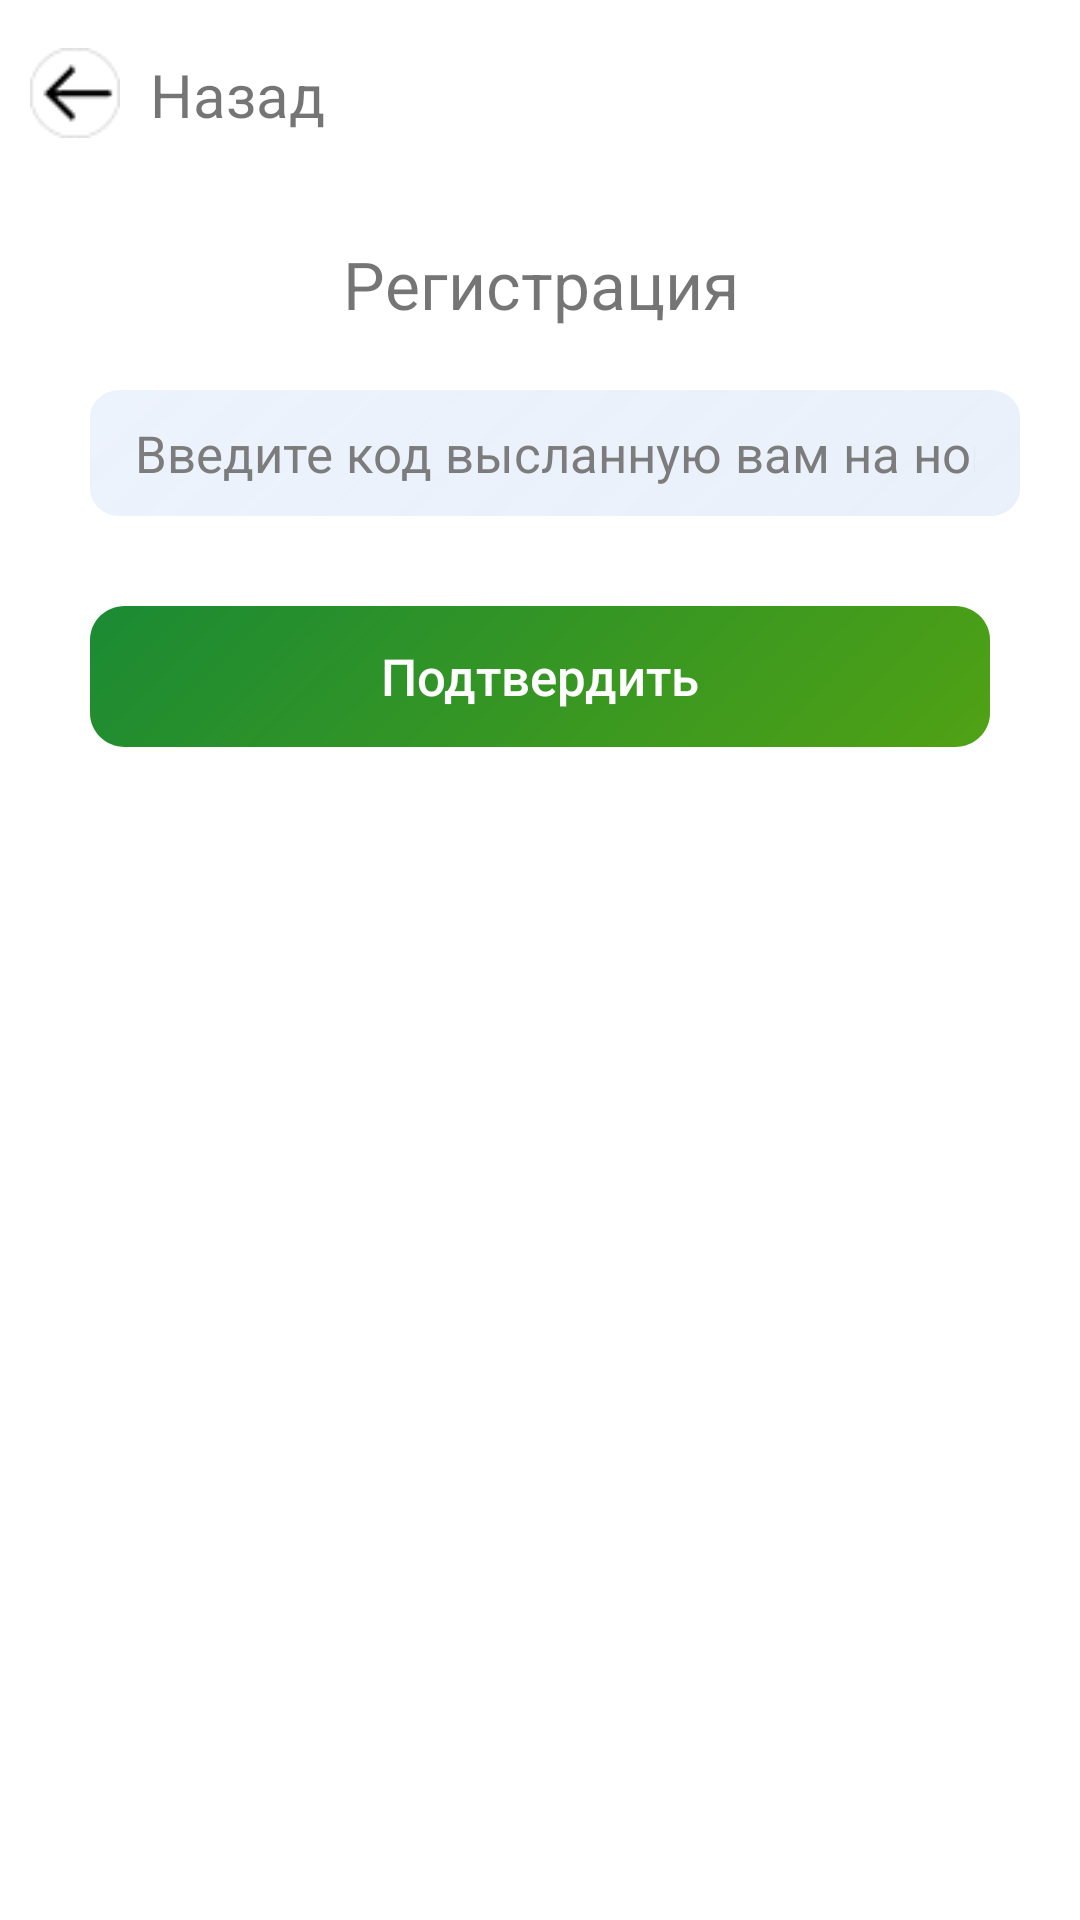

Where to tap for icons on this 1080px x 1920px app screen, as [x,y]:
arrow back: [75,93]
